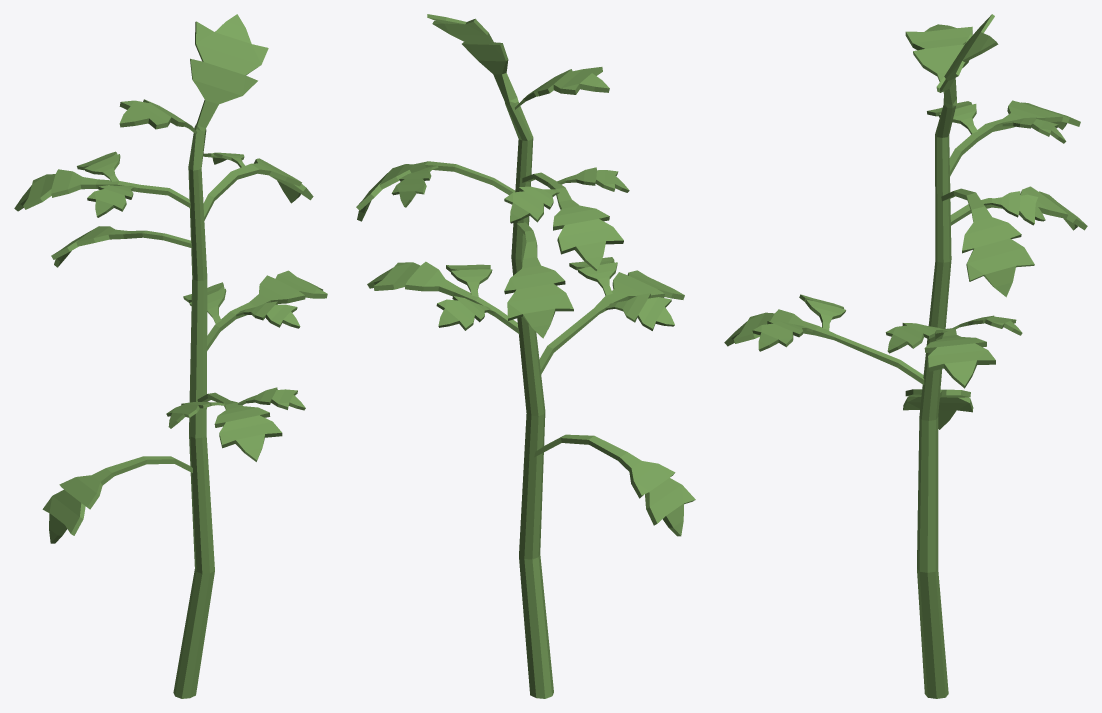
File: tomato_harvested.gltf
3 views of the same model, side by side, from view 1: azimuth 30°, elevation 25°; view 2: azimuth 150°, elevation 25°; view 3: azimuth 270°, elevation 25° (orthographic). The views are drawn at different scales.
Visible parts, largest first — view 1: tomato_harvested; view 2: tomato_harvested; view 3: tomato_harvested.
Boxes of the visible parts, x1=… form: tomato_harvested: x1=14, y1=14, x2=327, y2=698; tomato_harvested: x1=356, y1=14, x2=695, y2=698; tomato_harvested: x1=724, y1=14, x2=1087, y2=698.
Bounding box in the file's own units: 0.7932 × 1.72 × 0.81.
1 material, 1 textured.
